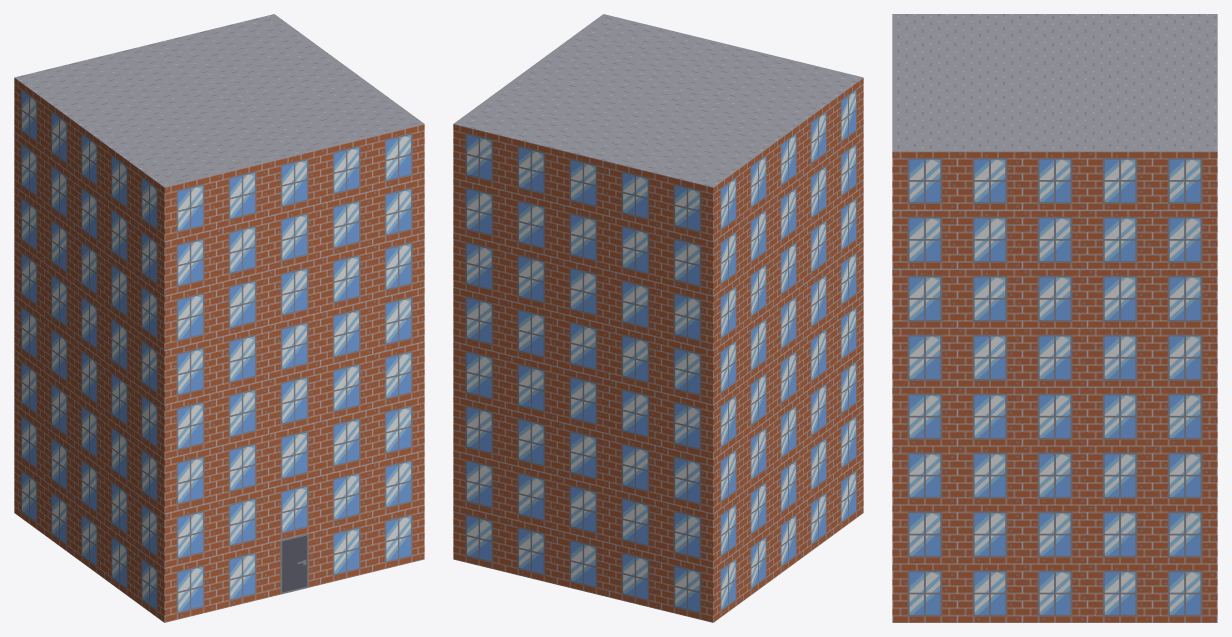
The model's file is House.fbx.
3 renders of one model, left to right at view 1: azimuth 30°, elevation 25°; view 2: azimuth 150°, elevation 25°; view 3: azimuth 270°, elevation 25°, orthographic. The views are drawn at different scales.
Visible parts, largest first — view 1: House001; view 2: House001; view 3: House001.
Part boxes in pixels (left/top/right/bottom): House001: left=14, top=14, right=424, bottom=622; House001: left=453, top=14, right=863, bottom=622; House001: left=892, top=14, right=1217, bottom=622.
Size of the model in its own units: 394 by 630 by 394.
